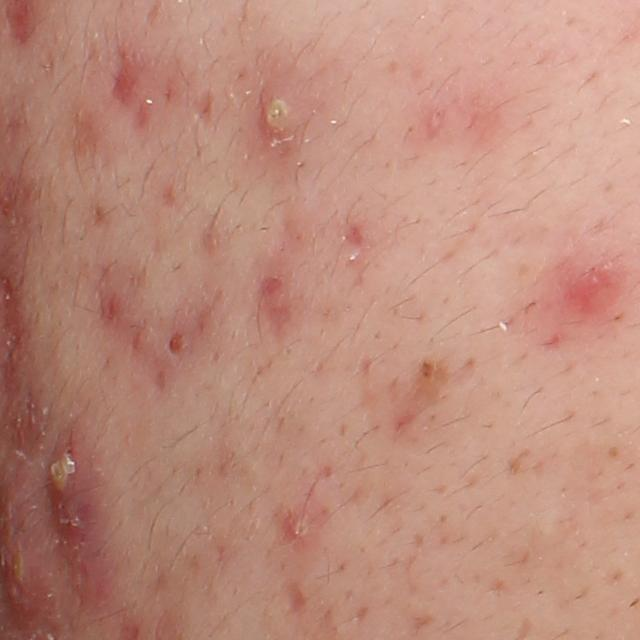atrophic_scar: (277, 577, 309, 619), (187, 87, 219, 126)
nodule: (37, 422, 123, 620)
pustule: (252, 72, 314, 150), (281, 503, 325, 551)
